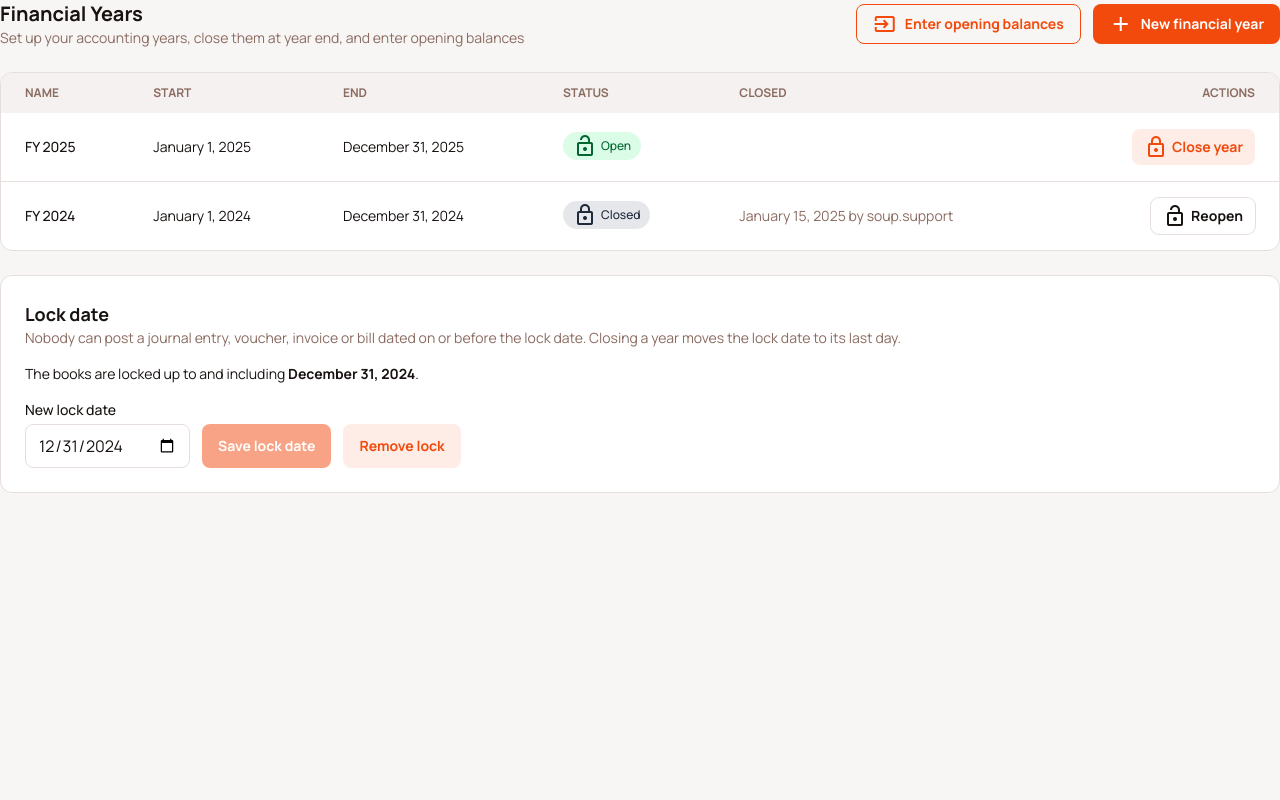
Test: FinancialYearsPage › blocks closing on an unbalanced trial balance
This screenshot has width=1280, height=800.
Click the button with test id "close-year-button-fy25".
click(1193, 147)  # box [1132, 129, 1255, 165]
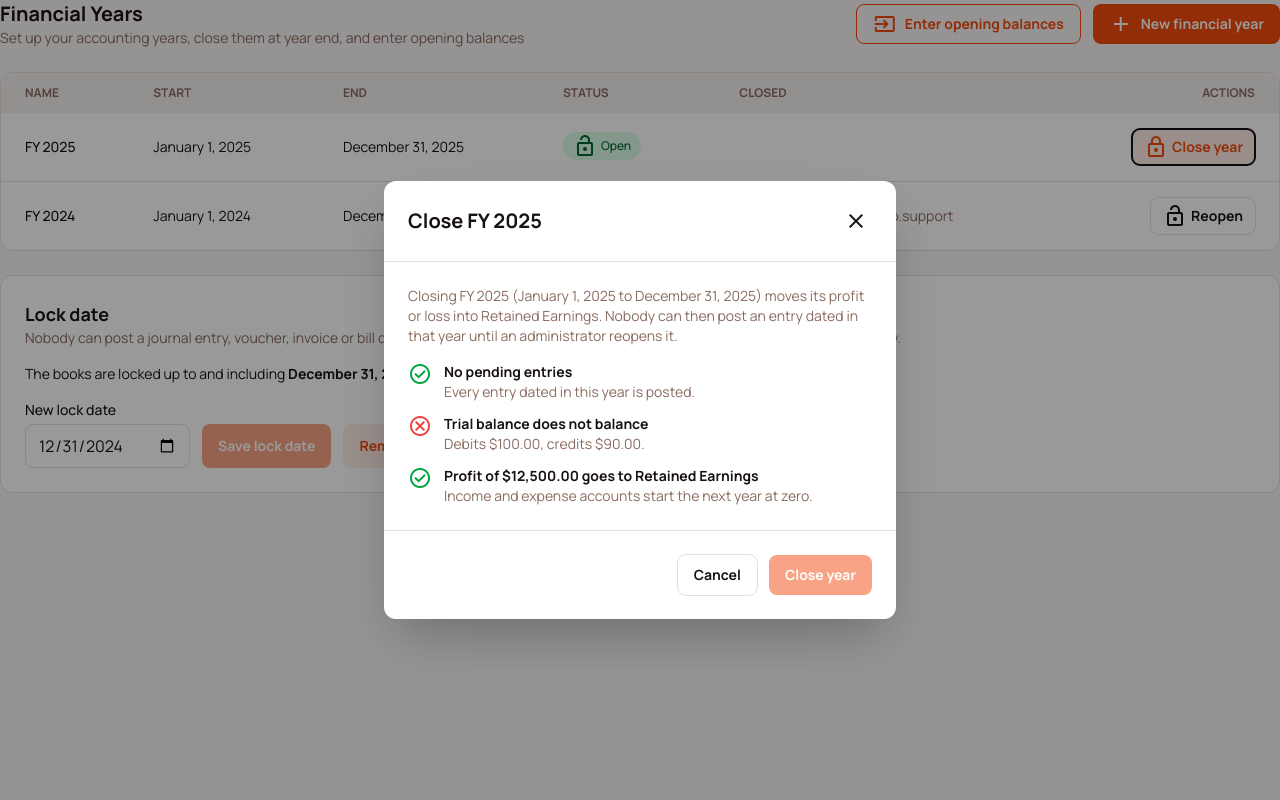
Expected: the list item with test id "check-trial-balance" shows "does not balance", [444, 414, 648, 433]
Expected: the button with test id "close-year-confirm" is disabled, [769, 555, 872, 595]
